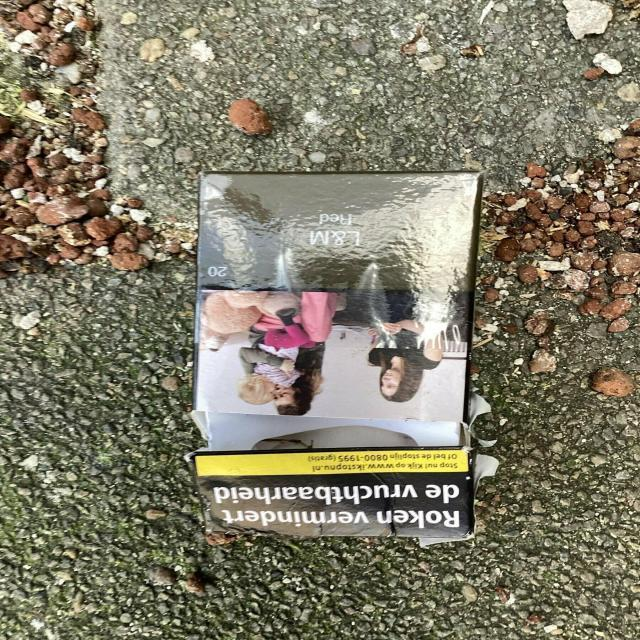Paper: (185, 168, 490, 553)
